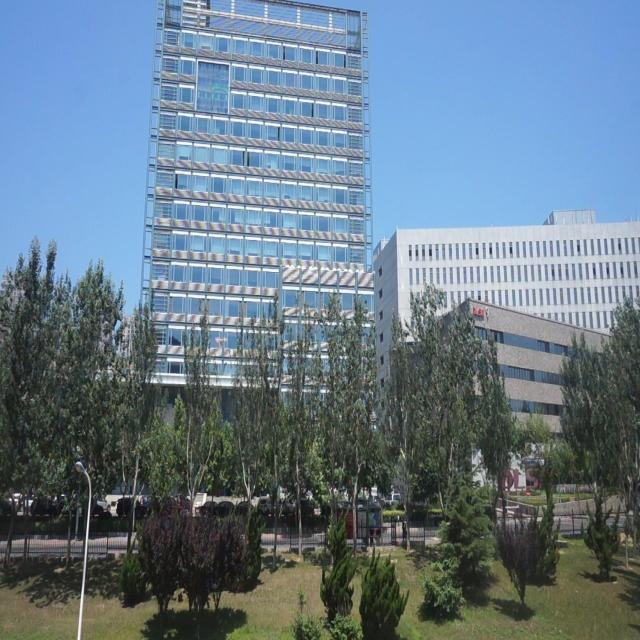drone: (213, 334, 228, 350)
